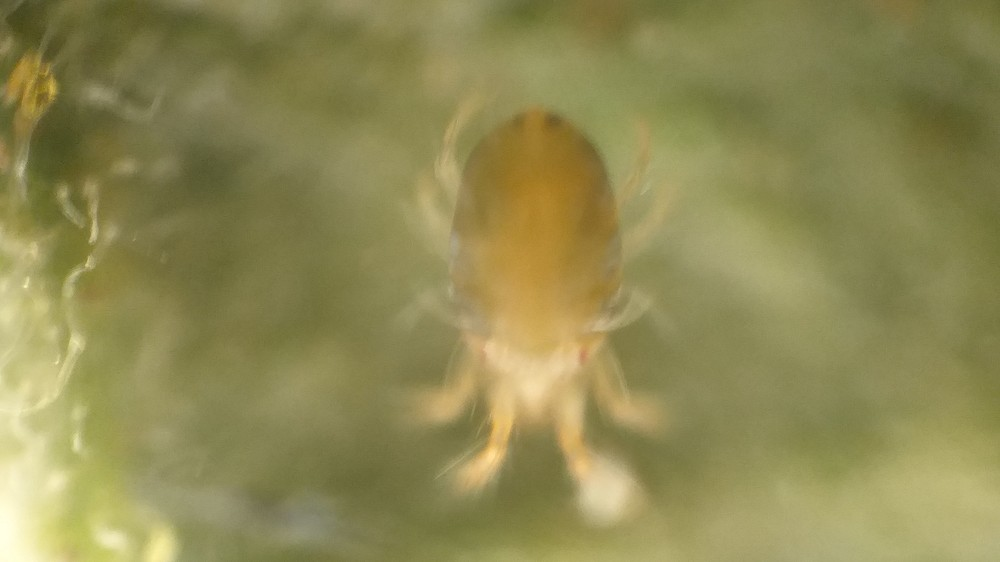Aracnido Rojo: (357, 76, 723, 545)
